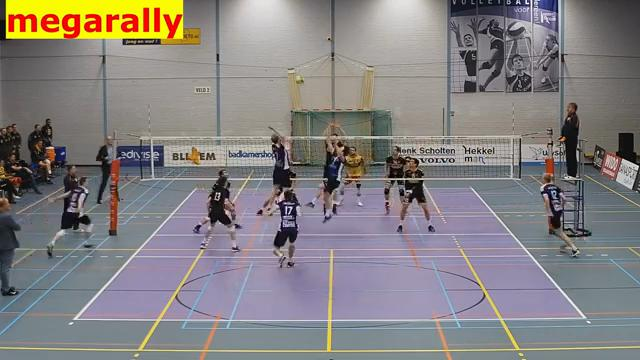Player: (46, 177, 92, 257), (541, 173, 579, 256), (200, 177, 239, 251), (257, 131, 291, 214), (397, 158, 434, 232), (273, 190, 301, 267), (339, 147, 365, 206), (384, 146, 405, 214), (306, 181, 324, 207), (229, 203, 241, 228)
Set: (314, 123, 350, 226)
ball: (292, 73, 309, 88)
